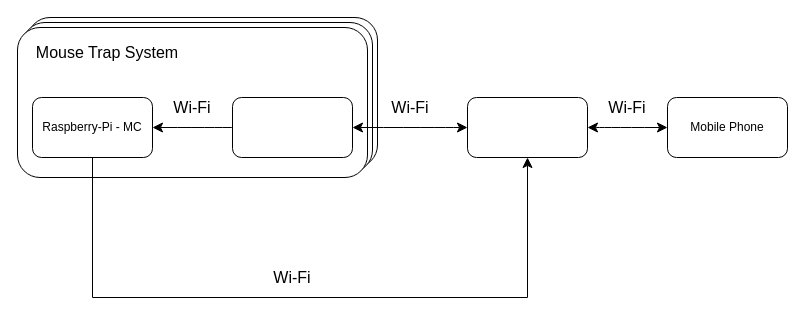
Some shapes in this 805 by 325 pixel diagram are drawn without their labels. Here are the shapes that lost their labels. From the top down, the centre of each, then its label:
(x=292, y=127): Arduino - MTC
(x=527, y=127): Raspberry-Pi - CC
